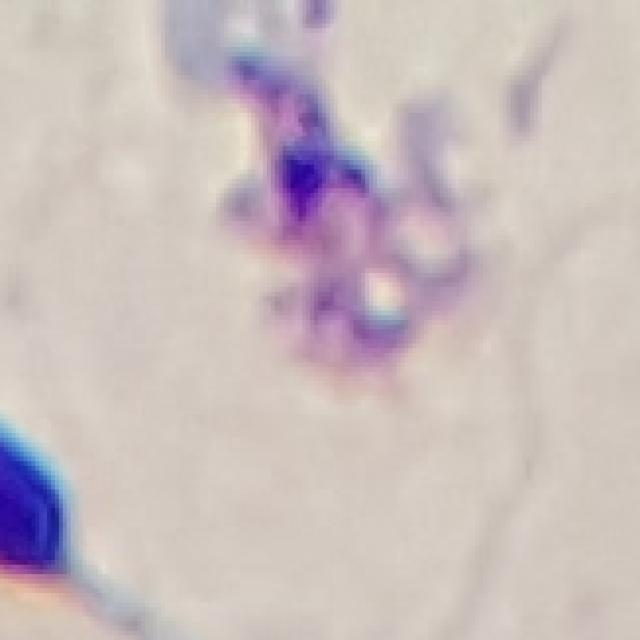non-sperm: (219, 1, 487, 386)
